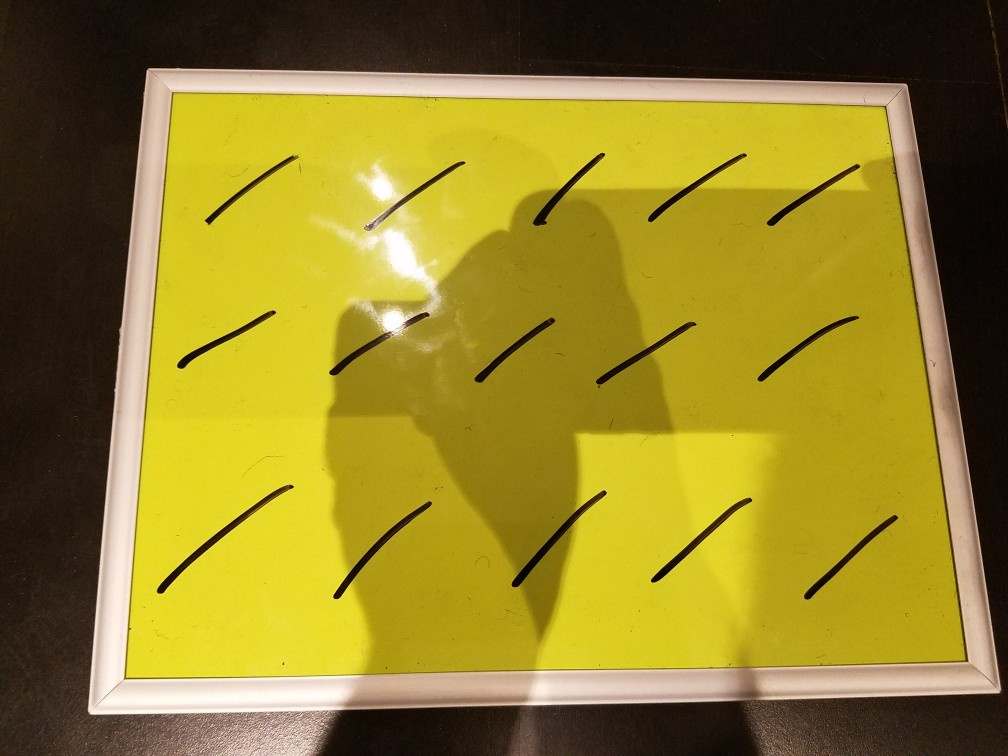/: (475, 465, 644, 629), (146, 476, 306, 627), (317, 481, 450, 617), (644, 474, 760, 618), (183, 130, 311, 260), (792, 491, 910, 629), (741, 291, 881, 403), (621, 128, 759, 238), (338, 146, 469, 258), (760, 134, 876, 247), (512, 136, 617, 254), (457, 295, 568, 394), (588, 311, 703, 405), (174, 294, 282, 387), (320, 299, 435, 385)
